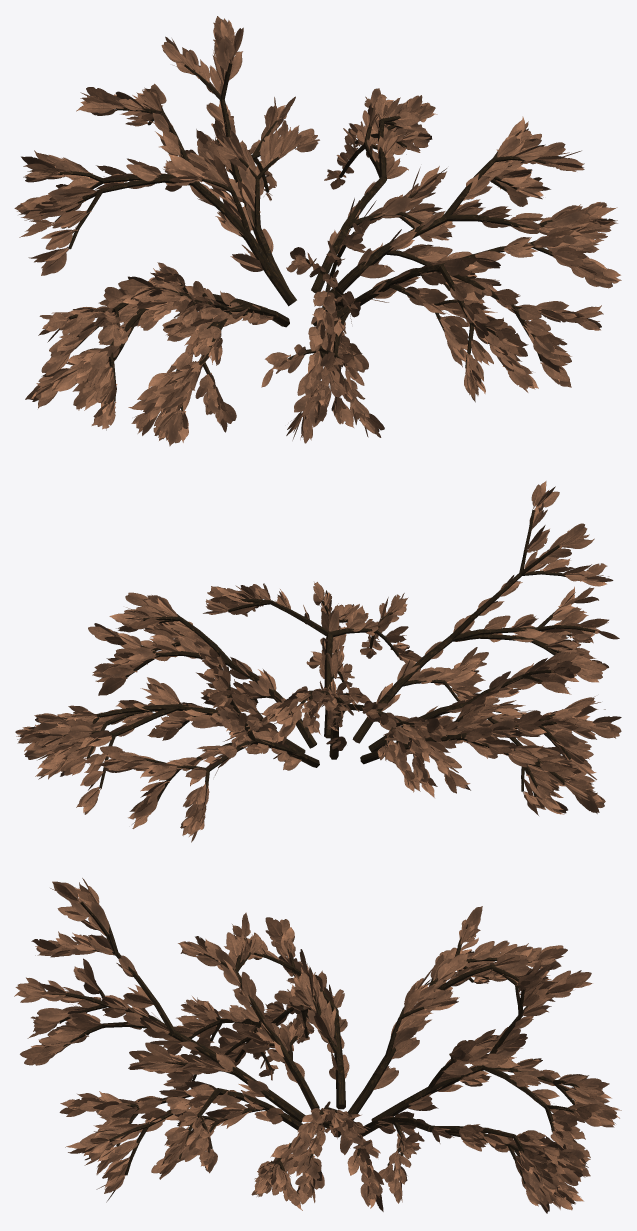
The model's file is salal_understory_v02.fbx.
The picture shows the model from 3 angles, top to bottom: view 1: azimuth 30°, elevation 25°; view 2: azimuth 150°, elevation 25°; view 3: azimuth 270°, elevation 25°; orthographic projection. The views are drawn at different scales.
Parts seen in each view (by area): view 1: salal_understory_v02; view 2: salal_understory_v02; view 3: salal_understory_v02.
Part boxes in pixels (x1=…): salal_understory_v02: x1=14, y1=16, x2=621, y2=446; salal_understory_v02: x1=15, y1=481, x2=621, y2=842; salal_understory_v02: x1=14, y1=878, x2=621, y2=1213.
Bounding box in the file's own units: 221 × 104 × 224.
Materials: 2 (2 with a texture image).
